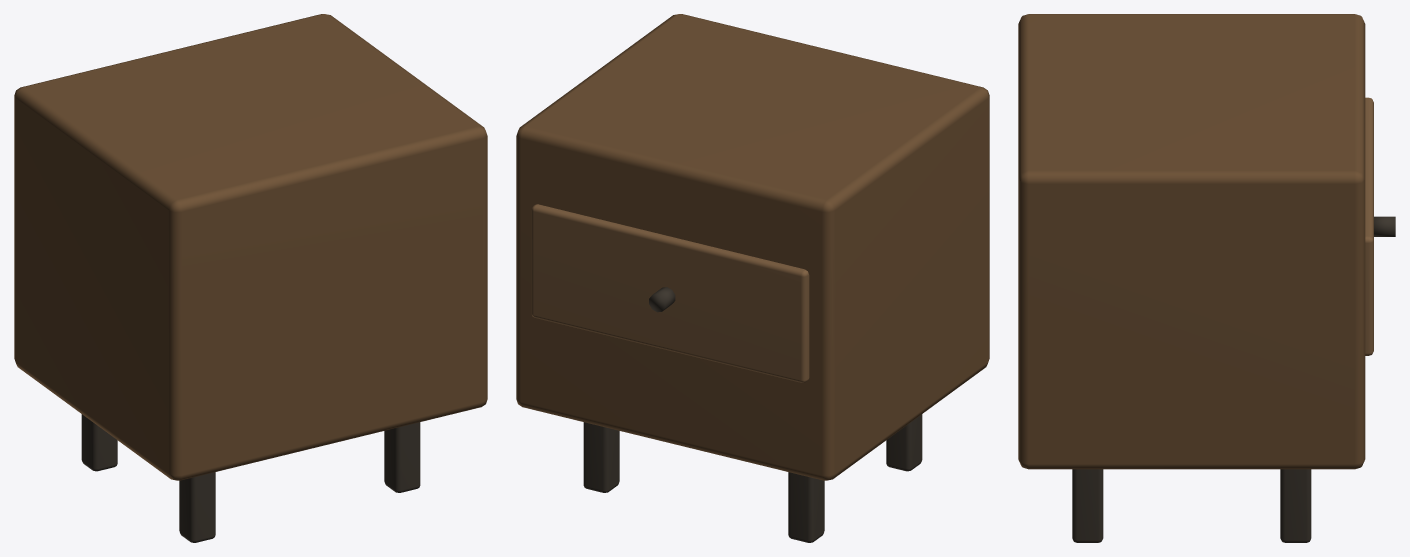
File: nightstand.glb
3 renders of one model, left to right at view 1: azimuth 30°, elevation 25°; view 2: azimuth 150°, elevation 25°; view 3: azimuth 270°, elevation 25°, orthographic. The views are drawn at different scales.
Parts seen in each view (by area): view 1: body; view 2: body; view 3: body.
Part boxes in pixels (box(x1,y1,x2,y2)): body: box(14, 14, 487, 542); body: box(516, 14, 989, 542); body: box(1018, 14, 1395, 542).
Size of the model in its own units: 0.45 by 0.5 by 0.435.
